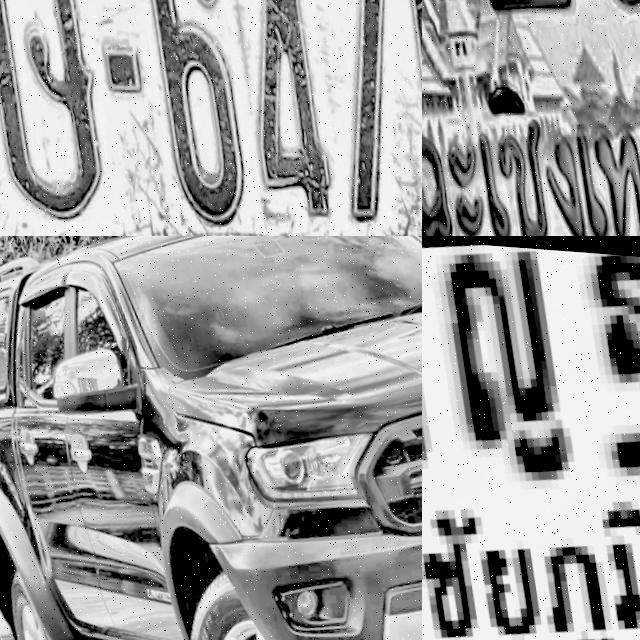license-plate: (0, 0, 422, 236), (422, 236, 640, 640), (422, 0, 640, 236)
